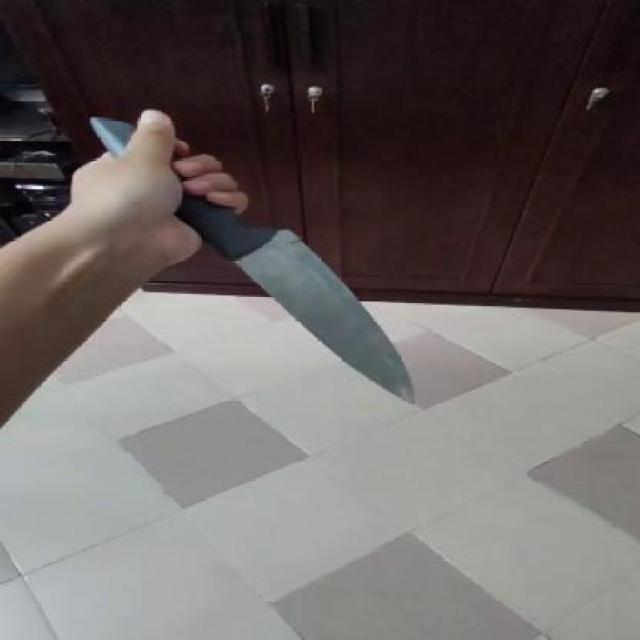knife: (219, 238, 446, 418)
